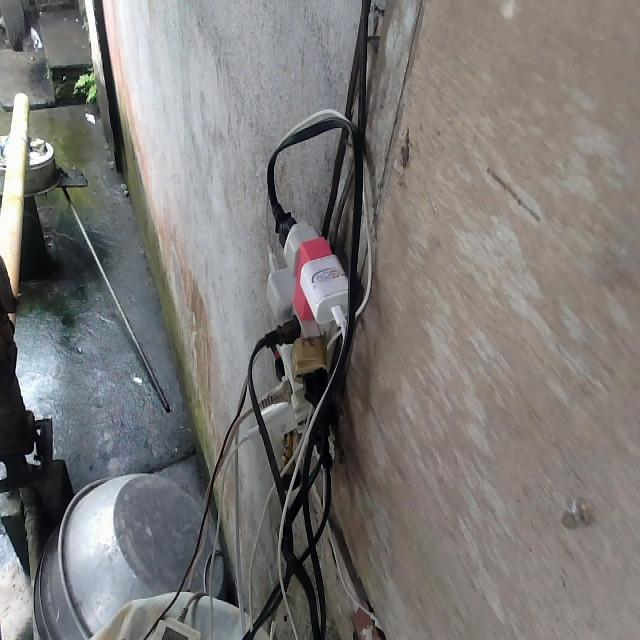-: (242, 194, 357, 474)
